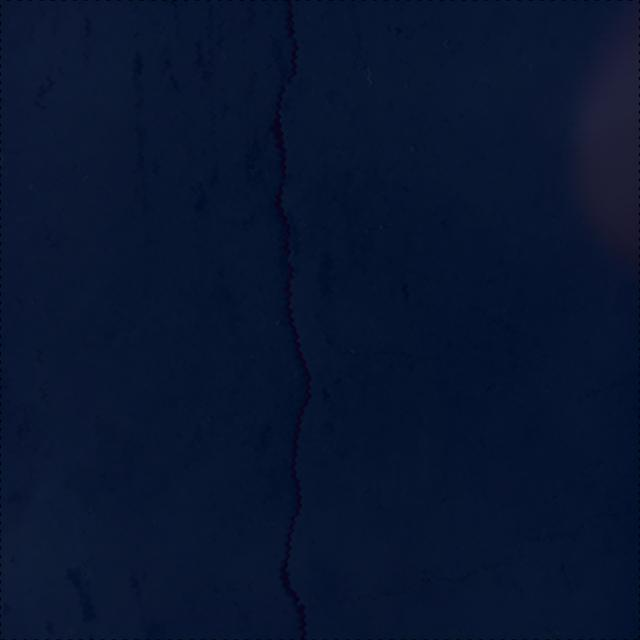crack: (260, 0, 312, 640), (338, 554, 513, 604), (516, 506, 640, 545)
